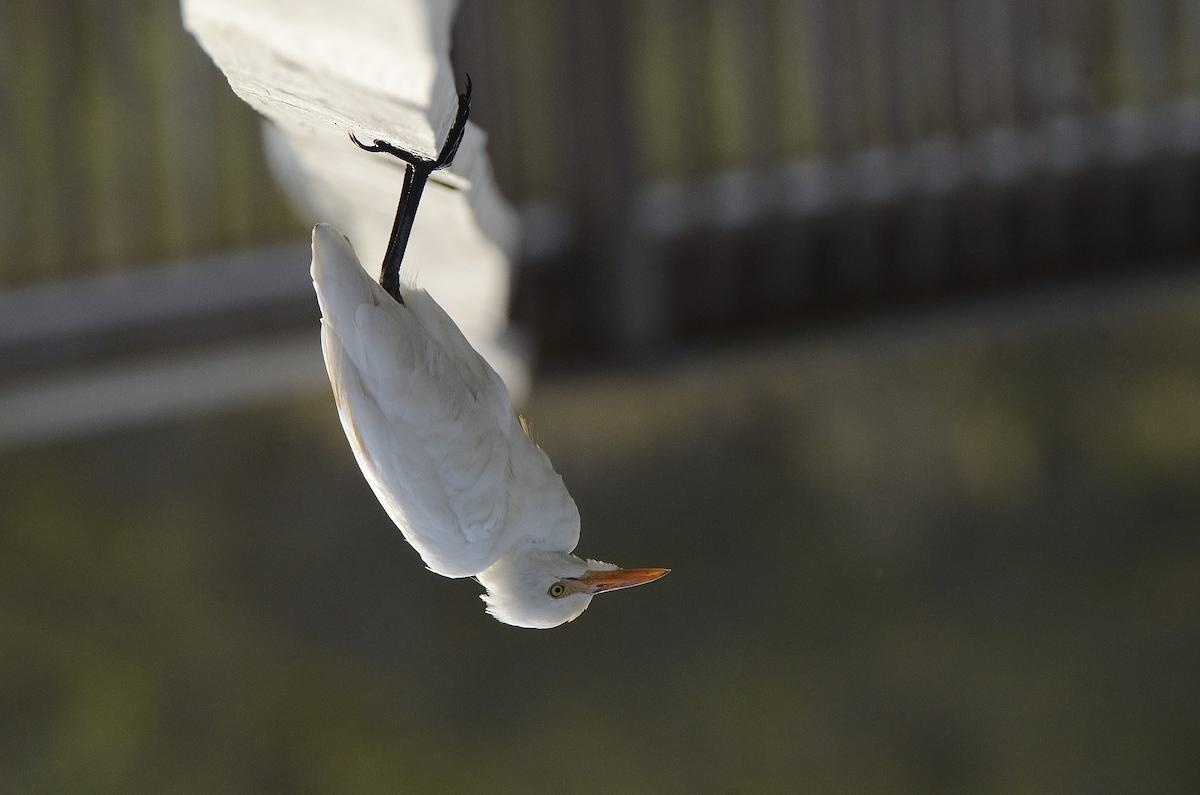egret: (309, 95, 685, 642)
